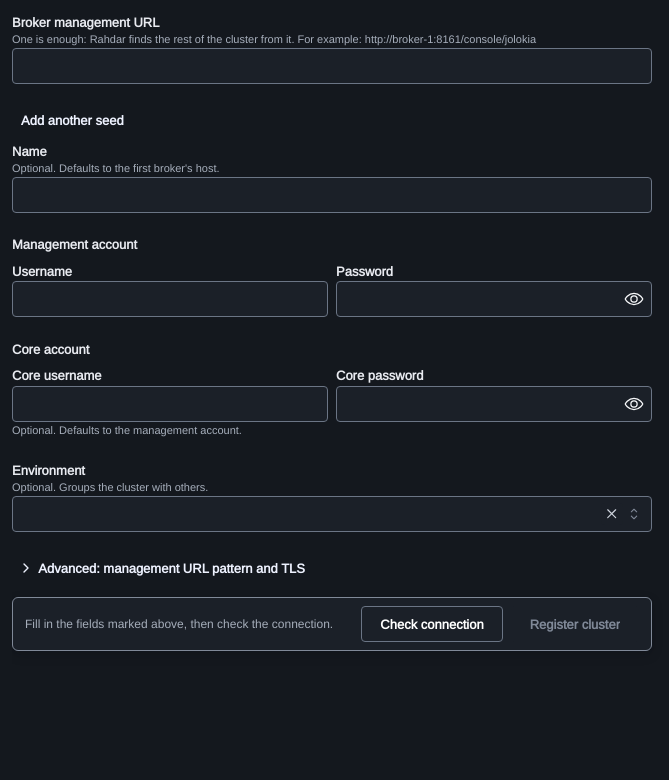
Test: RegisterClusterForm › says what the check found once it passes
In the field labelled "Broker management URL": point(332, 66) [12,48,652,84], type "broker-1"
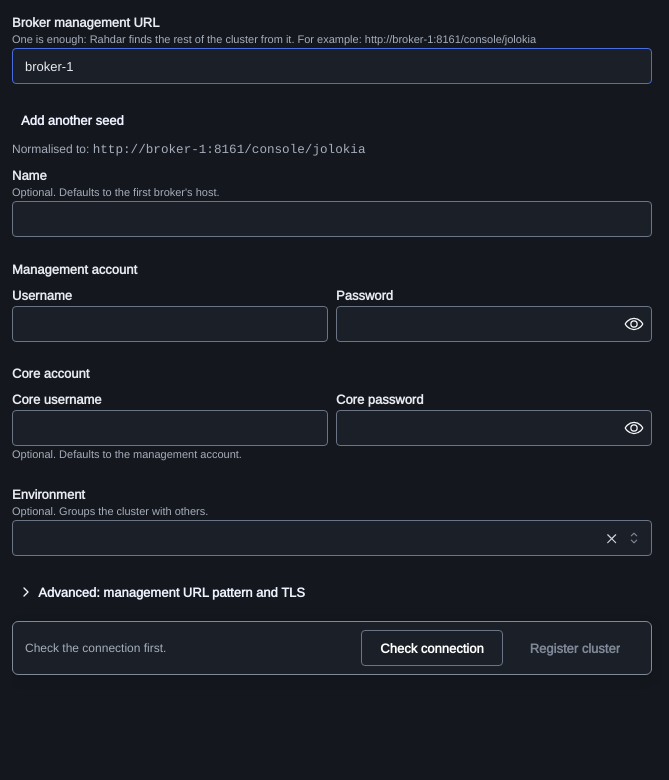
Click the button "Check connection": point(432, 648) [361,630,503,666]
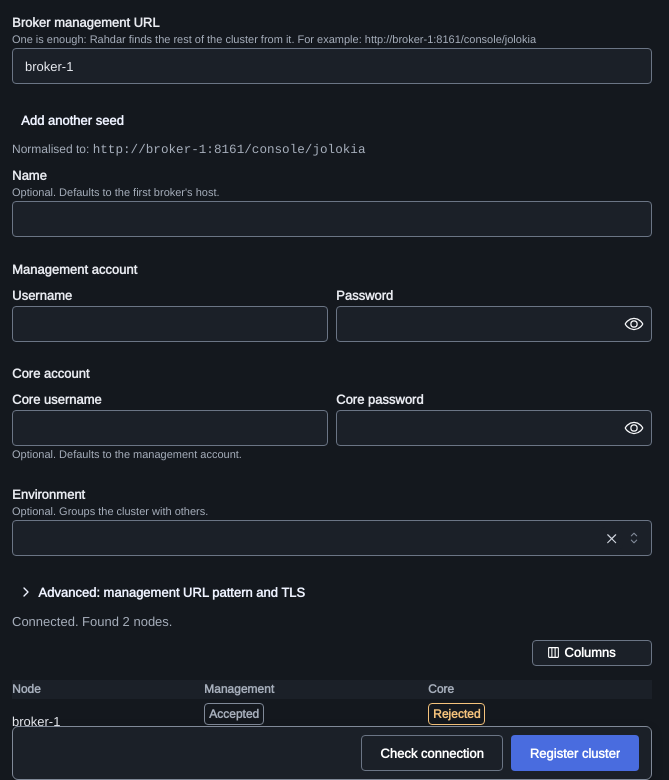
Expected: the text "Connected. Found 2 nodes." is shown, [12,614,172,630]
